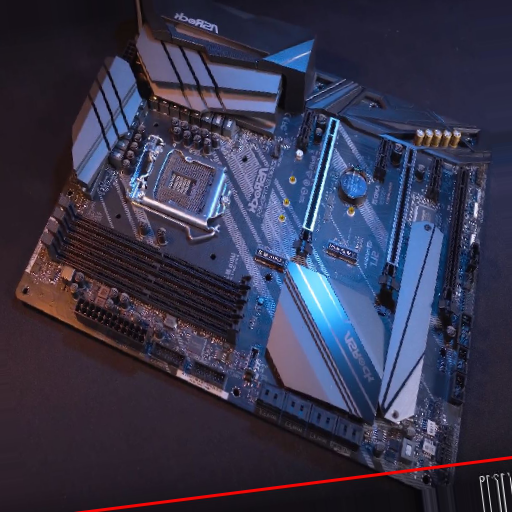CPU: (129, 144, 234, 228)
GPU: (376, 148, 418, 302), (294, 116, 339, 258), (434, 167, 472, 318)
MOTHERBOARD: (14, 12, 488, 493)
RAM: (41, 194, 252, 342)
SSD: (252, 248, 288, 274), (327, 242, 360, 266)
